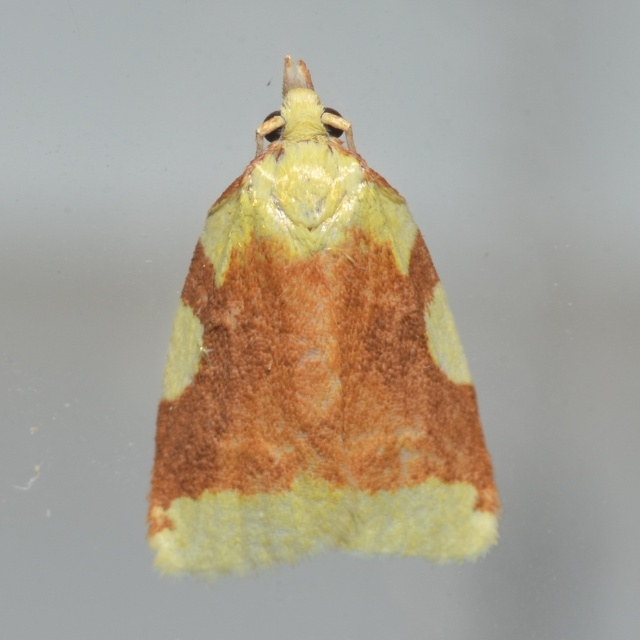Moths and butterflies: (144, 54, 504, 584)
